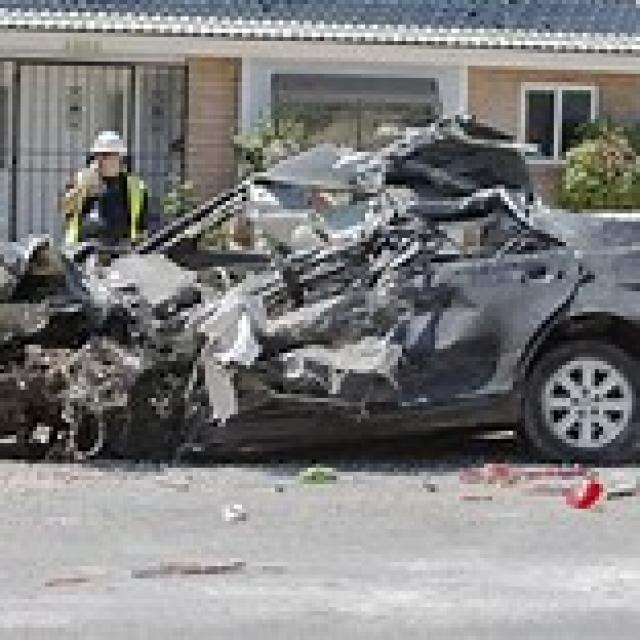Accident: (15, 95, 640, 474)
